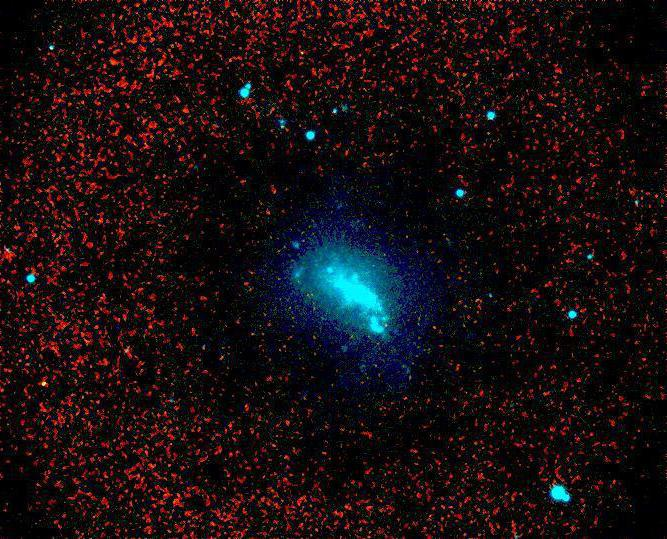star: (30, 366, 60, 396)
